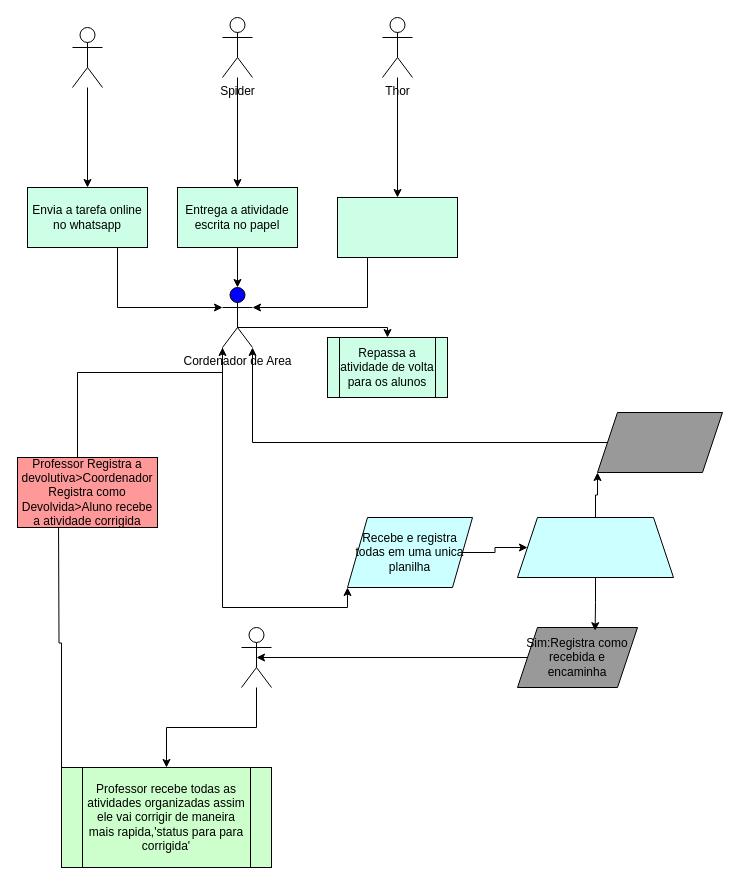
The diagram is 740 pixels wide and 885 high, and some of its shapes have lost their labels. The centre of each missing label's shape, as x and y in pixels:
Atividade completa e identificada?: point 595,547
Envia a atividade para o gmail do professor: point 397,227
Não:"Devolve ao aluno para completar/Corrigir: point 659,442
Professor: point 256,657
Venom: point 87,57
